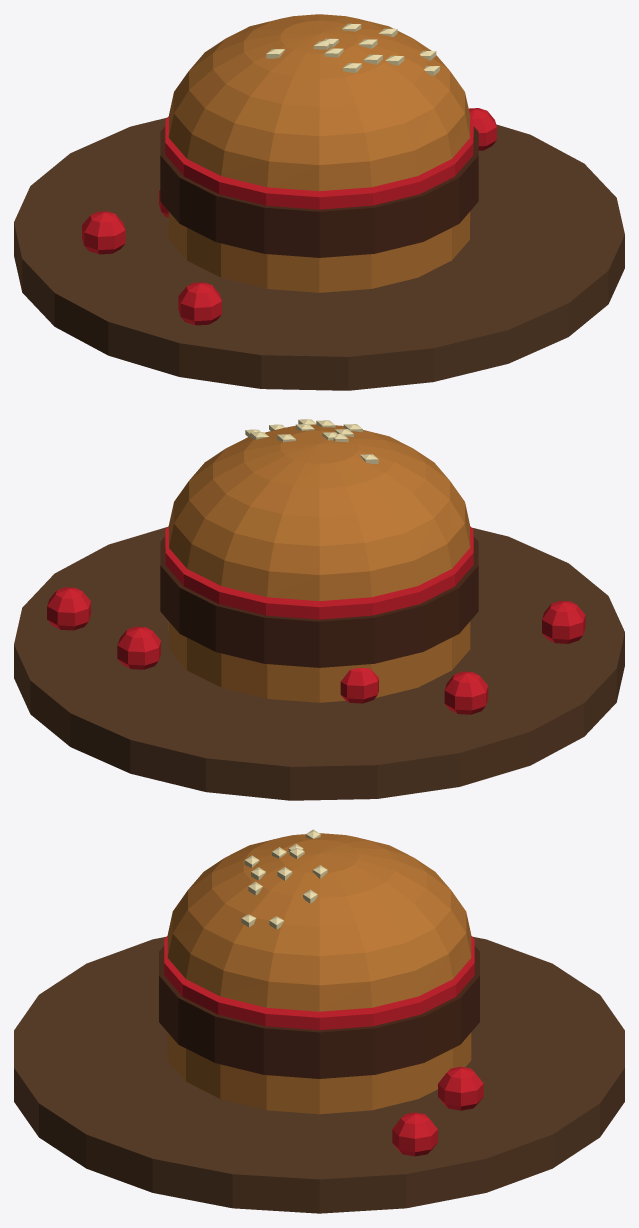
Rendered from VFP_Food_MooseBurger.obj.
The picture shows the model from 3 angles, top to bottom: view 1: azimuth 30°, elevation 25°; view 2: azimuth 150°, elevation 25°; view 3: azimuth 270°, elevation 25°; orthographic projection.
Parts seen in each view (by area): view 1: Board, Burger, Burger_patty, Burger_lingon, Berries, Burger_seed; view 2: Board, Burger, Burger_patty, Berries, Burger_lingon, Burger_seed; view 3: Board, Burger, Burger_patty, Burger_lingon, Berries, Burger_seed.
Boxes of the visible parts, x1,y1,x2,y2 form: Board: (14,117,624,390); Burger: (168,14,470,292); Burger_patty: (160,126,478,257); Burger_lingon: (165,116,473,209); Berries: (82,108,496,325); Burger_seed: (266,23,439,75); Board: (14,527,624,800); Burger: (168,424,470,702); Burger_patty: (160,536,478,667); Berries: (47,587,585,714); Burger_lingon: (165,526,473,619); Burger_seed: (245,419,378,463); Board: (14,936,624,1213); Burger: (167,833,471,1114); Burger_patty: (159,946,479,1078); Burger_lingon: (164,936,474,1030); Berries: (392,1066,483,1156); Burger_seed: (241,829,327,929).
Size of the model in its own units: 0.36 by 0.1504 by 0.3564.
